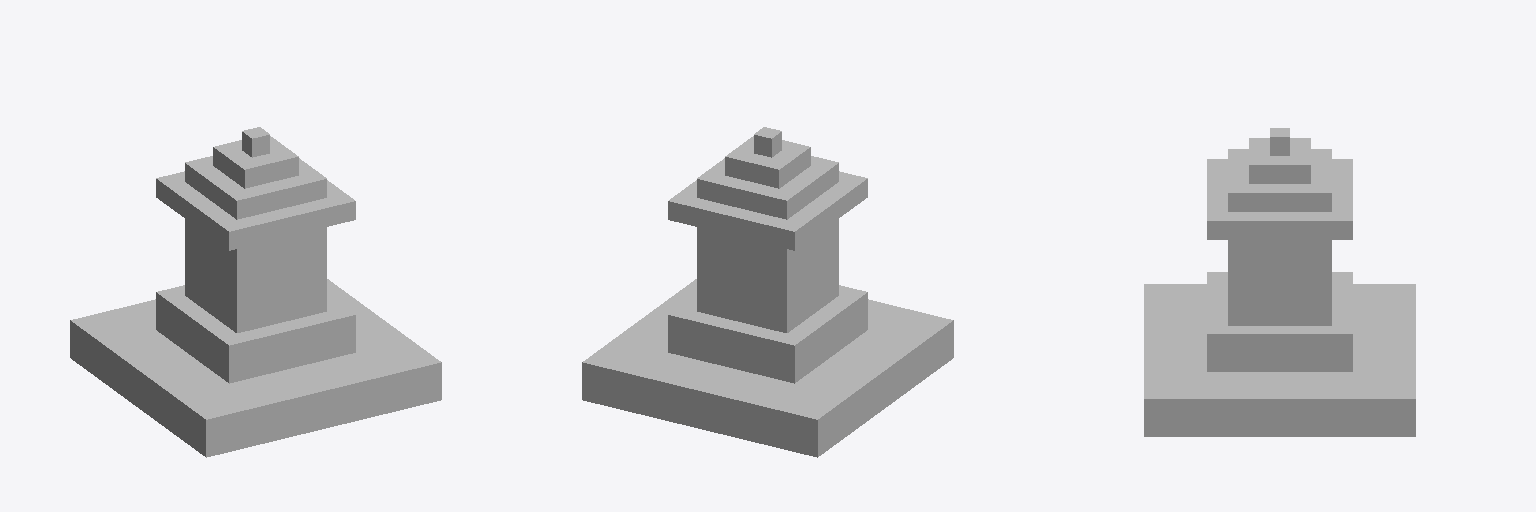
The model's file is pawn.obj.
The picture shows the model from 3 angles: view 1: azimuth 30°, elevation 25°; view 2: azimuth 150°, elevation 25°; view 3: azimuth 270°, elevation 25°; orthographic projection.
Visible parts, largest first — view 1: pawn; view 2: pawn; view 3: pawn.
Boxes of the visible parts, x1=… form: pawn: x1=70, y1=127, x2=441, y2=457; pawn: x1=582, y1=127, x2=953, y2=457; pawn: x1=1144, y1=128, x2=1415, y2=436.
Size of the model in its own units: 13 by 13 by 13.